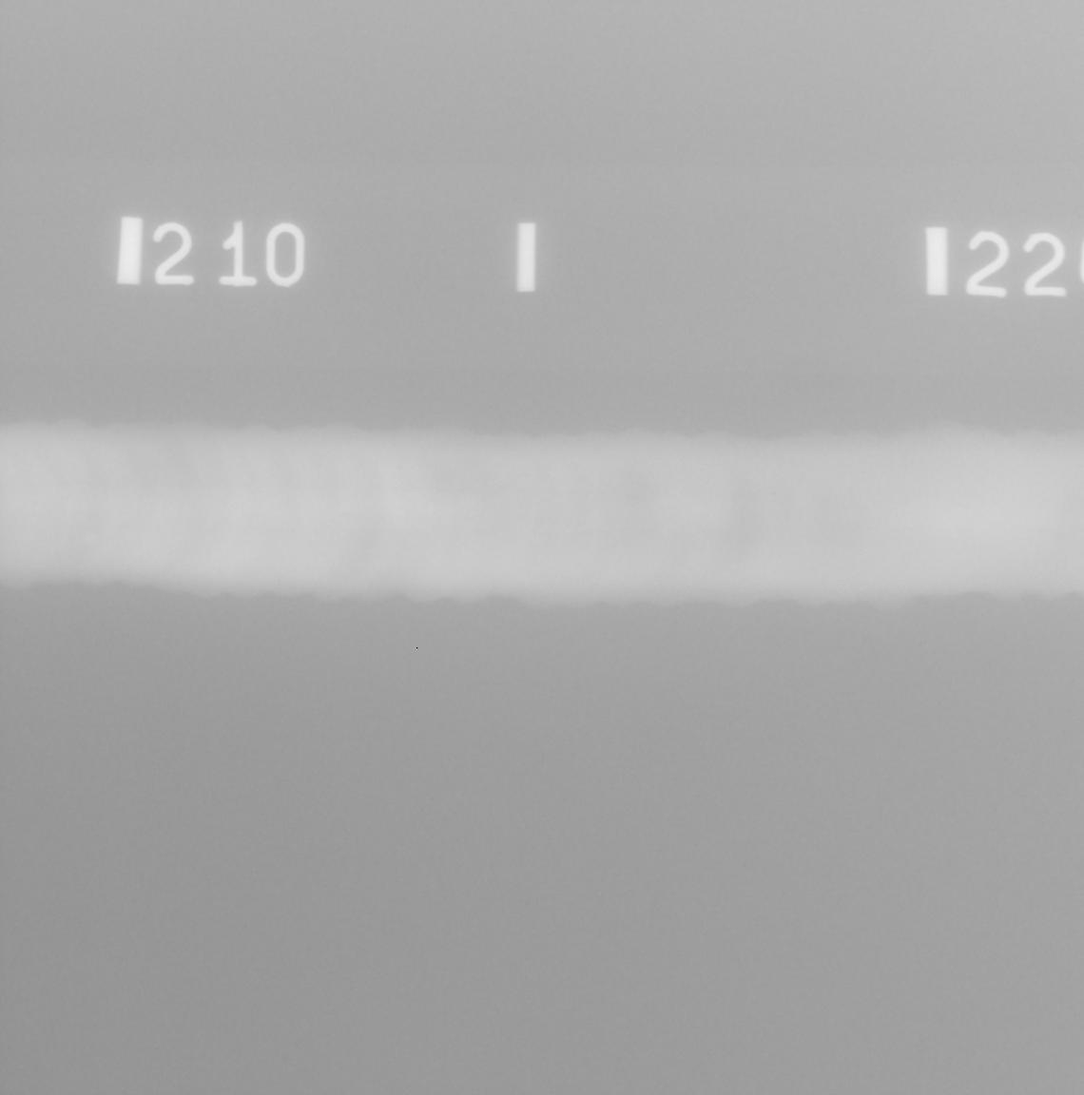Pore/Porosity: (626, 494, 640, 500), (1038, 526, 1046, 534), (771, 491, 777, 496)
